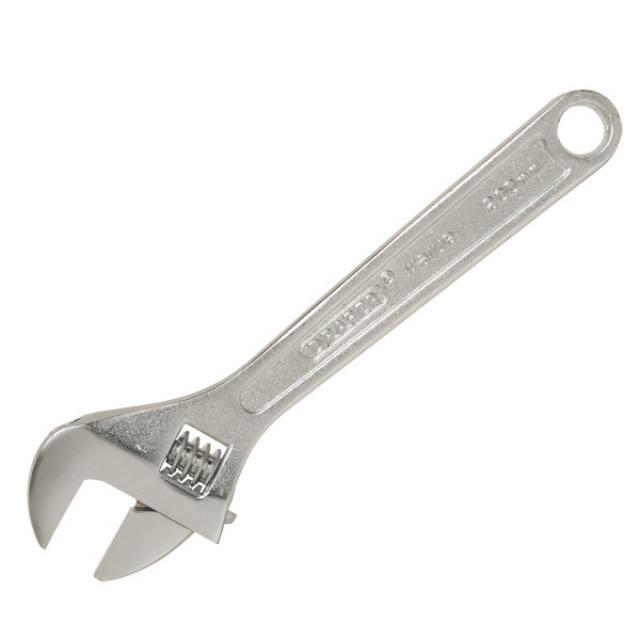wrench: (14, 81, 632, 588)
